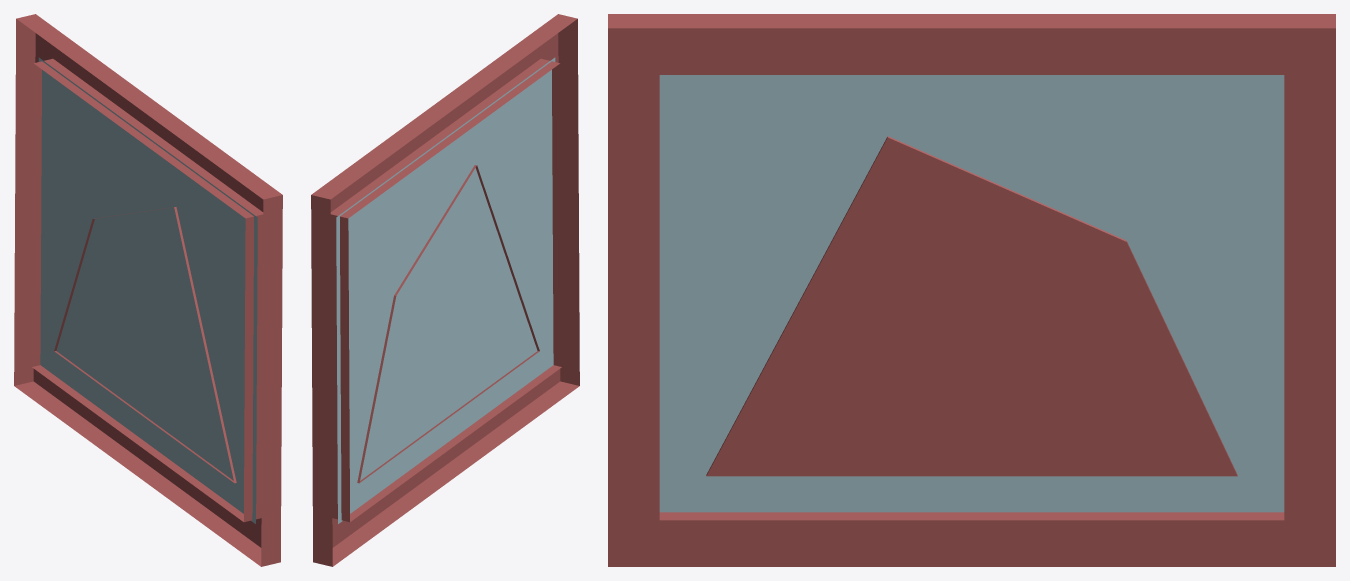
File: Office2_Photoframe_4.fbx
3 renders of one model, left to right at view 1: azimuth 30°, elevation 25°; view 2: azimuth 150°, elevation 25°; view 3: azimuth 270°, elevation 25°, orthographic. The views are drawn at different scales.
Visible parts, largest first — view 1: Office2_Photoframe_4; view 2: Office2_Photoframe_4; view 3: Office2_Photoframe_4.
Boxes of the visible parts, x1=… form: Office2_Photoframe_4: x1=14, y1=14, x2=282, y2=566; Office2_Photoframe_4: x1=311, y1=14, x2=579, y2=566; Office2_Photoframe_4: x1=608, y1=14, x2=1335, y2=566.
Bounding box in the file's own units: 3.58 × 58.01 × 70.82.
